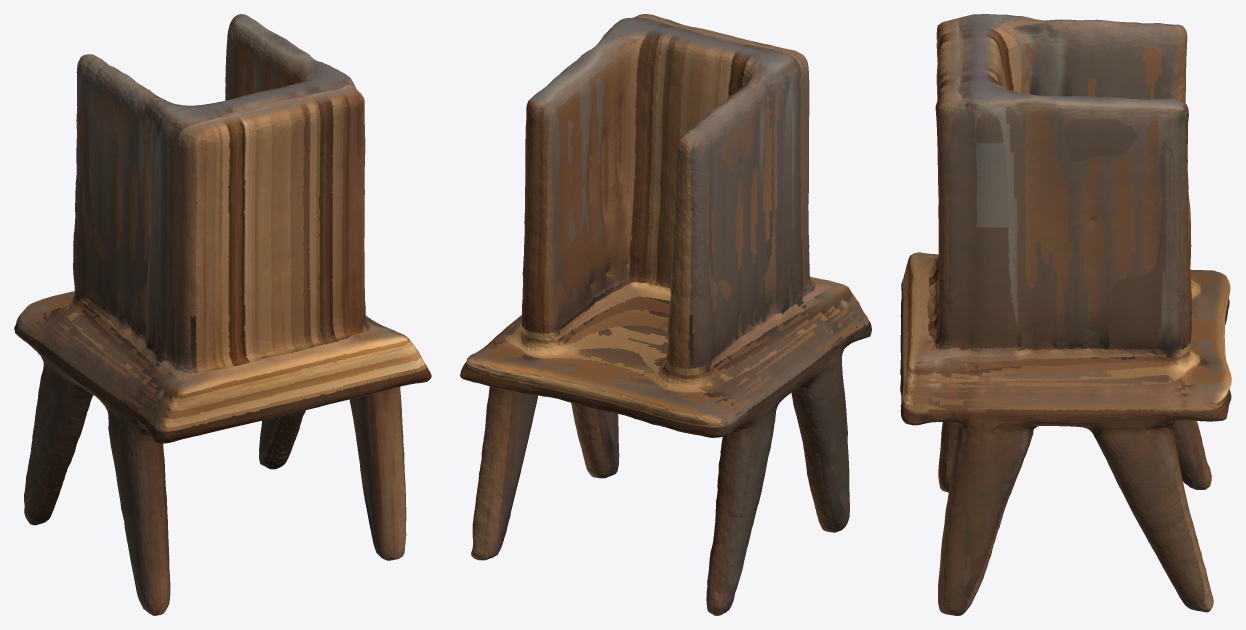
The model's file is chair_v2.glb.
3 renders of one model, left to right at view 1: azimuth 30°, elevation 25°; view 2: azimuth 150°, elevation 25°; view 3: azimuth 270°, elevation 25°, orthographic. The views are drawn at different scales.
Parts seen in each view (by area): view 1: geometry_0; view 2: geometry_0; view 3: geometry_0.
Boxes of the visible parts, x1=… form: geometry_0: x1=14, y1=14, x2=431, y2=615; geometry_0: x1=460, y1=14, x2=871, y2=615; geometry_0: x1=900, y1=14, x2=1231, y2=615.
Size of the model in its own units: 0.5954 by 1 by 0.5999.
Materials: 1 (1 with a texture image).
